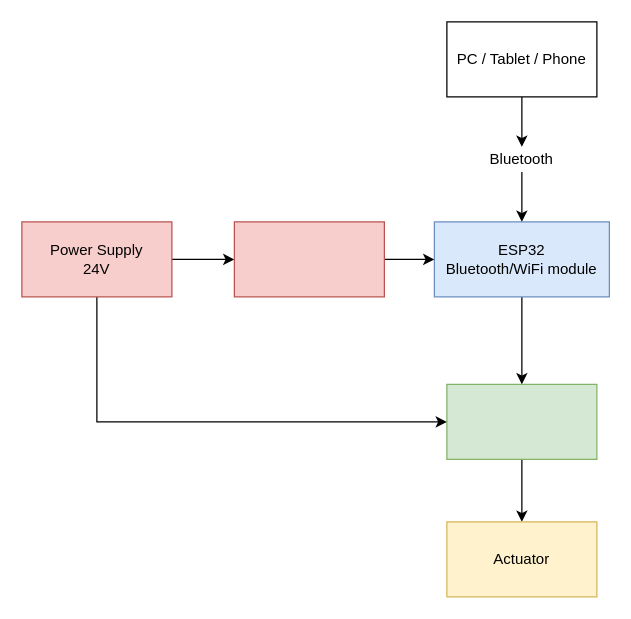
Some shapes in this 631 by 619 pixel diagram are drawn without their labels. Here are the shapes that lost their labels. From the top down, the centre of each, then its label:
At [308,259]: "DC-to-DC Step down 24V -> 5V".
At [521,421]: "DRV8825 Actuator driver".
